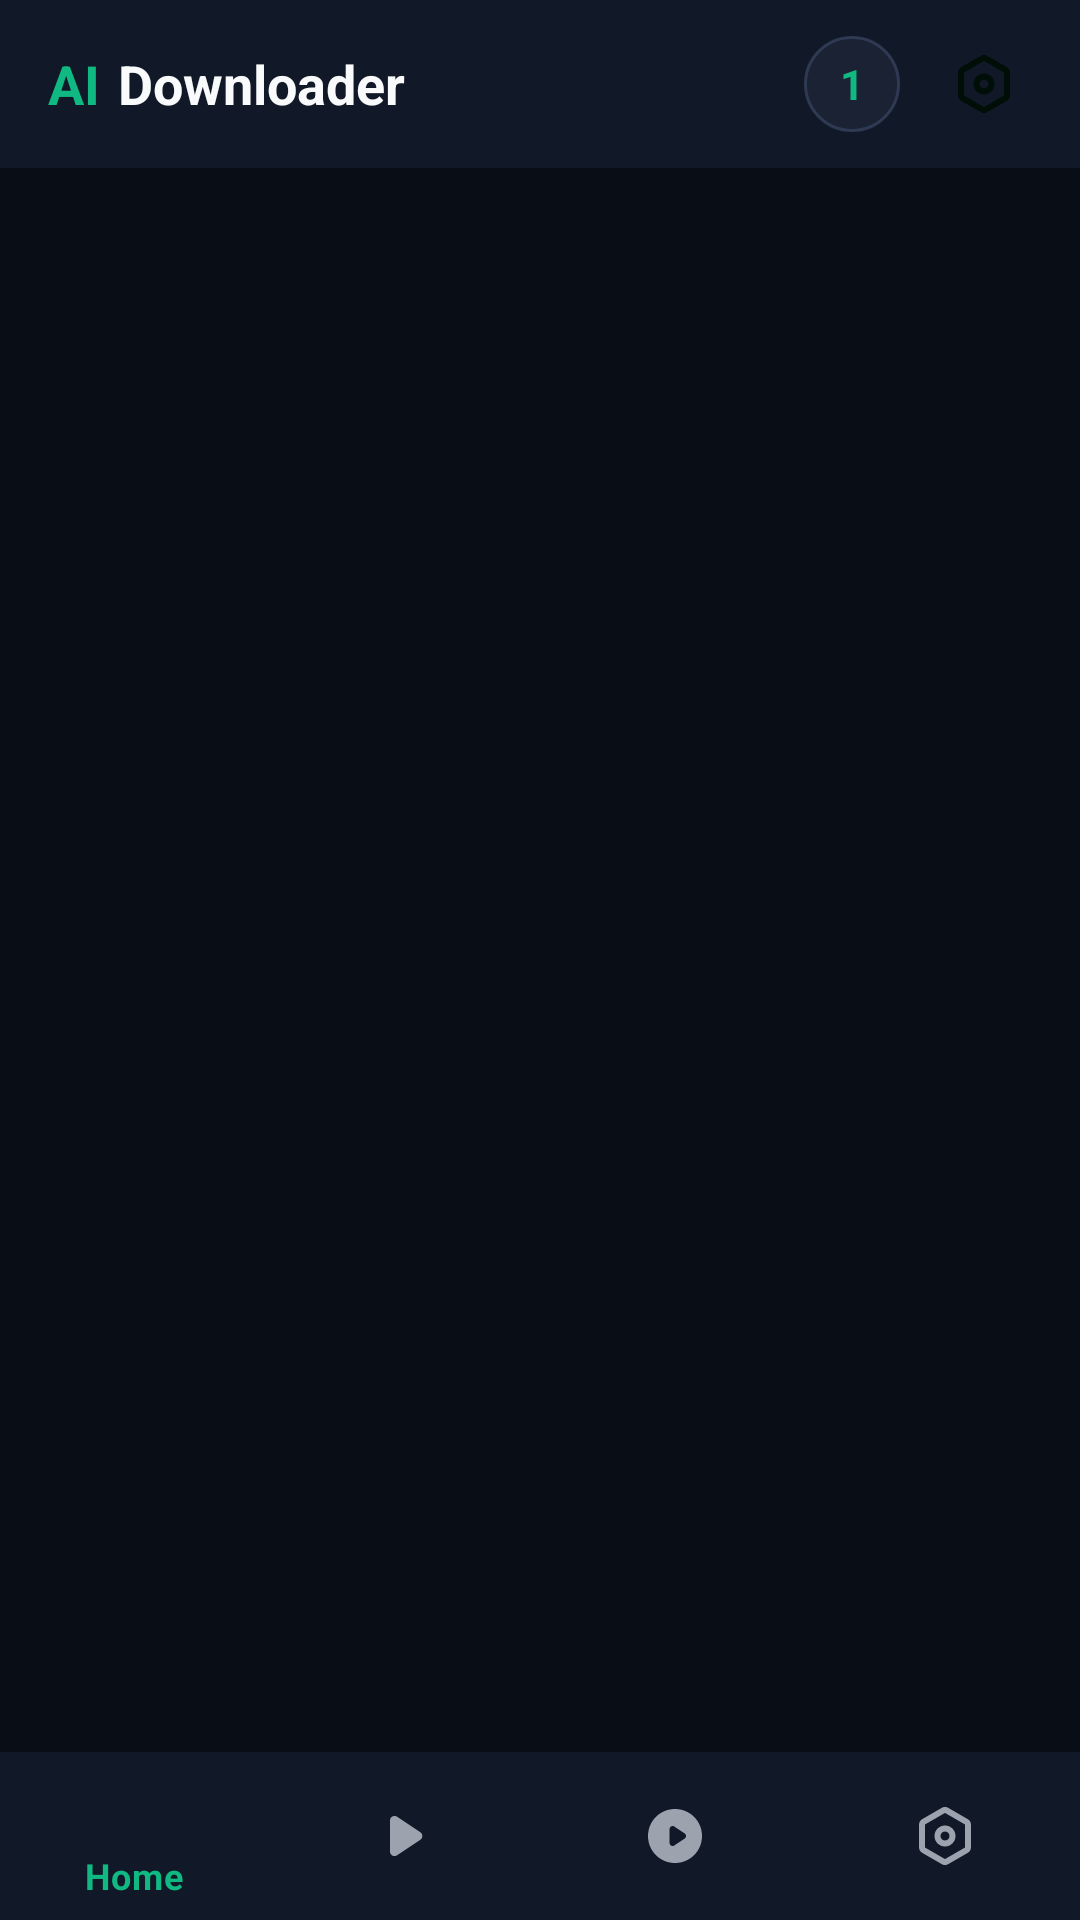

Where icons sit on this 1080x1920 app screen, as (x1, y1, x2, y2):
Settings: (958, 55, 1010, 113)
